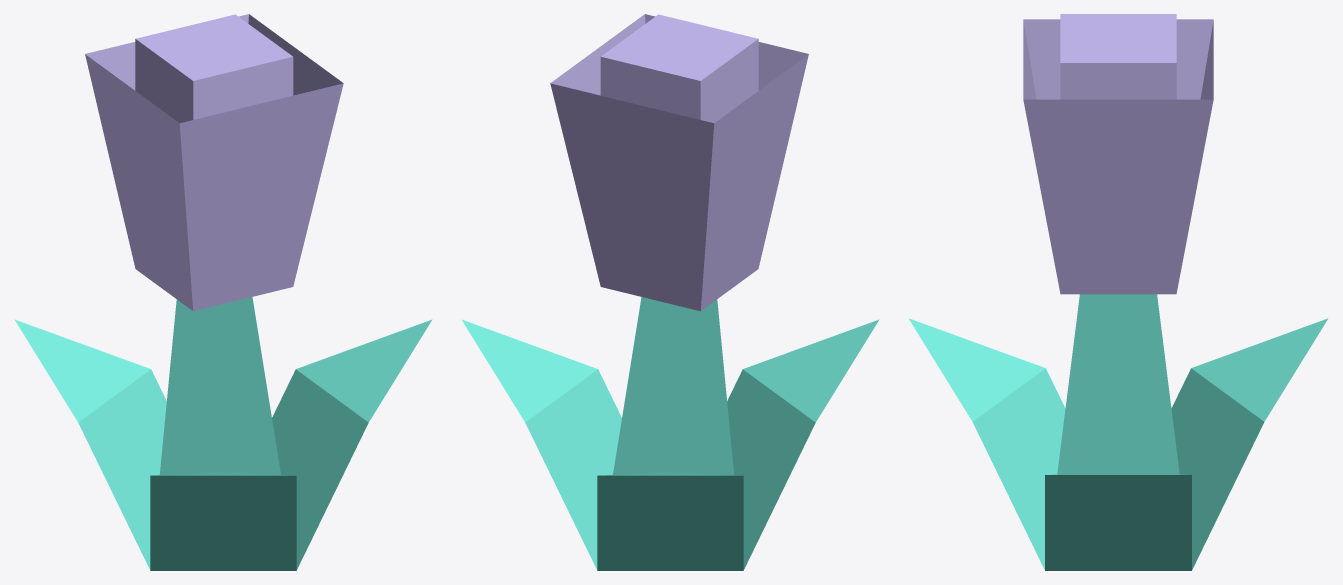
3 views of the same model, side by side, from view 1: azimuth 30°, elevation 25°; view 2: azimuth 150°, elevation 25°; view 3: azimuth 270°, elevation 25° (orthographic).
Visible parts, largest first — view 1: flower_purpleA; view 2: flower_purpleA; view 3: flower_purpleA.
Part boxes in pixels (x1,y1,x2,y2): flower_purpleA: (14, 14, 432, 570); flower_purpleA: (461, 14, 879, 570); flower_purpleA: (908, 14, 1328, 570).
Size of the model in its own units: 0.1591 by 0.2425 by 0.1811.
